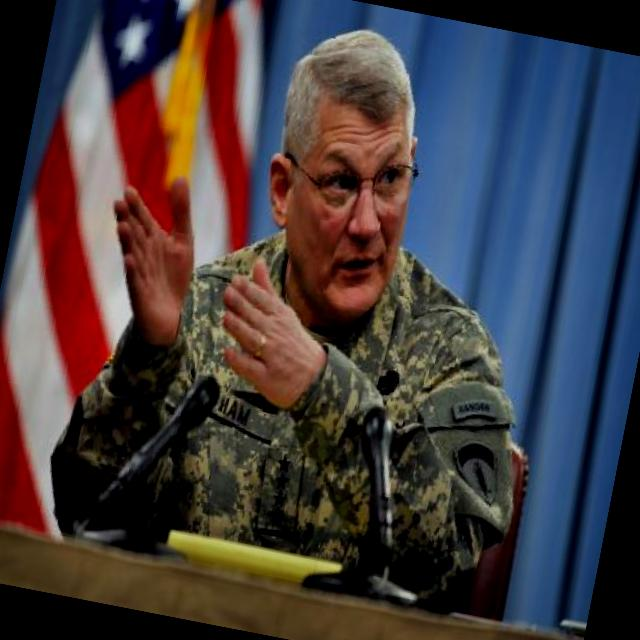Person: (80, 38, 578, 632)
